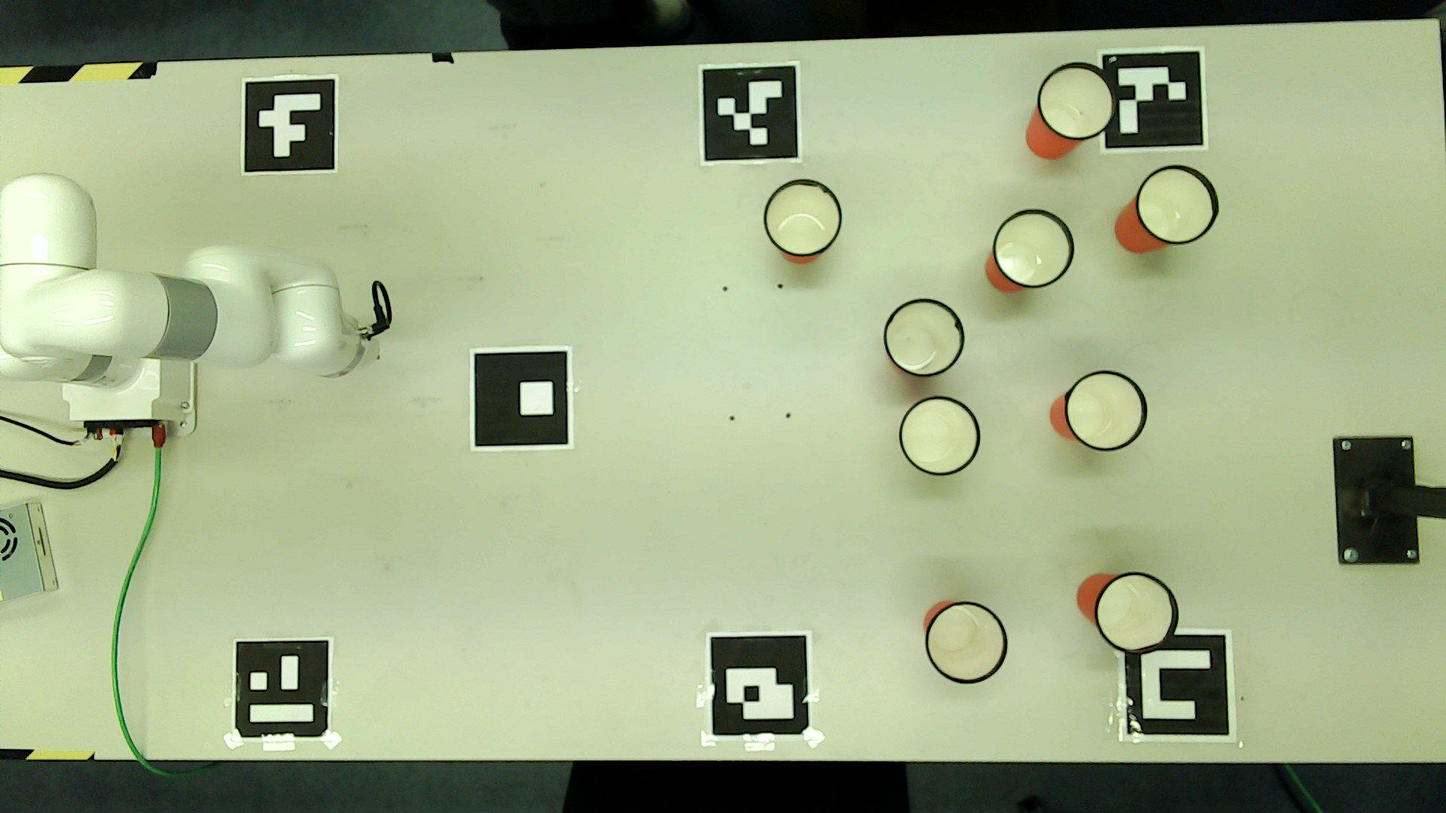cup: (928, 603, 1006, 681), (1067, 372, 1145, 450), (901, 397, 978, 475), (1098, 574, 1175, 651), (886, 300, 963, 376), (1139, 167, 1216, 243), (995, 212, 1072, 287), (1040, 64, 1116, 138), (765, 180, 839, 254)
